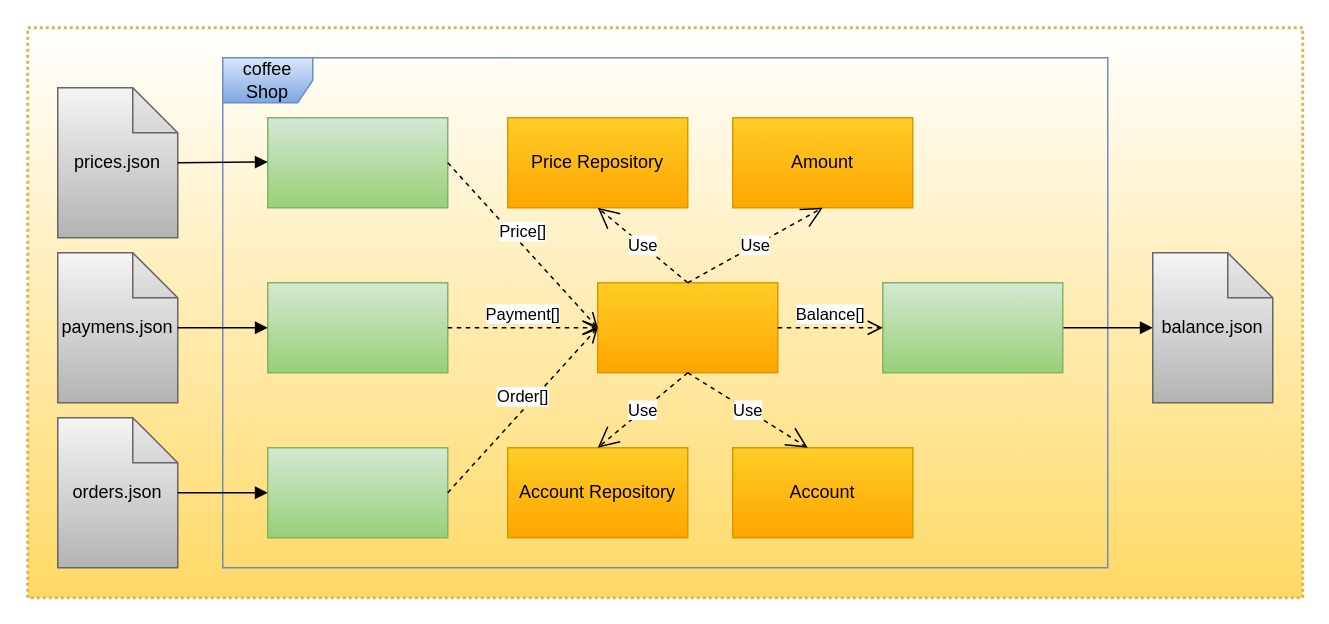
The diagram is 1329 pixels wide and 624 high, and some of its shapes have lost their labels. Each missing label, with the centre of its shape:
"Make Balance" goes at point 687,327.
"Read Orders" goes at point 357,492.
"Read Payments" goes at point 357,327.
"Read Prices" goes at point 357,162.
"Write Balance" goes at point 972,327.
